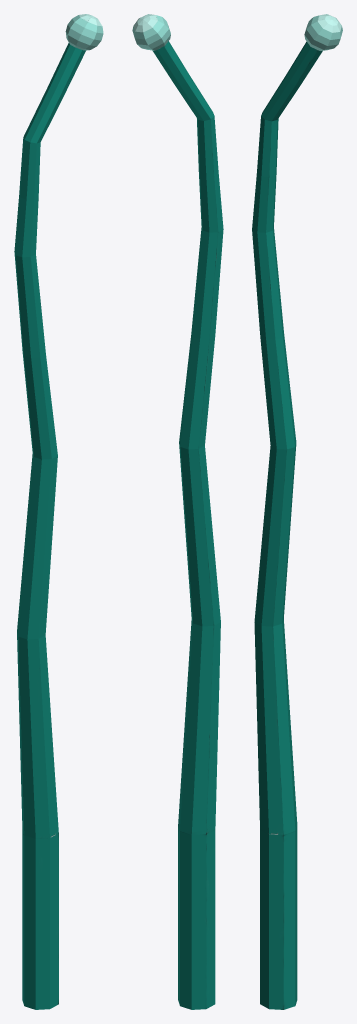
The model's file is palkanew.glb.
3 renders of one model, left to right at view 1: azimuth 30°, elevation 25°; view 2: azimuth 210°, elevation 25°; view 3: azimuth 330°, elevation 25°, orthographic. The views are drawn at different scales.
Visible parts, largest first — view 1: Cylinder, Sphere; view 2: Cylinder, Sphere; view 3: Cylinder, Sphere.
Boxes of the visible parts, bbox=[...] form: Cylinder: bbox=[14, 43, 85, 1009]; Sphere: bbox=[65, 14, 103, 50]; Cylinder: bbox=[152, 41, 223, 1009]; Sphere: bbox=[132, 14, 170, 50]; Cylinder: bbox=[252, 41, 322, 1009]; Sphere: bbox=[304, 14, 342, 50].
Bounding box in the file's own units: 0.5246 × 5.7 × 0.2.
1 material, 1 textured.
